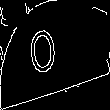O_S: (39, 25, 71, 85)
